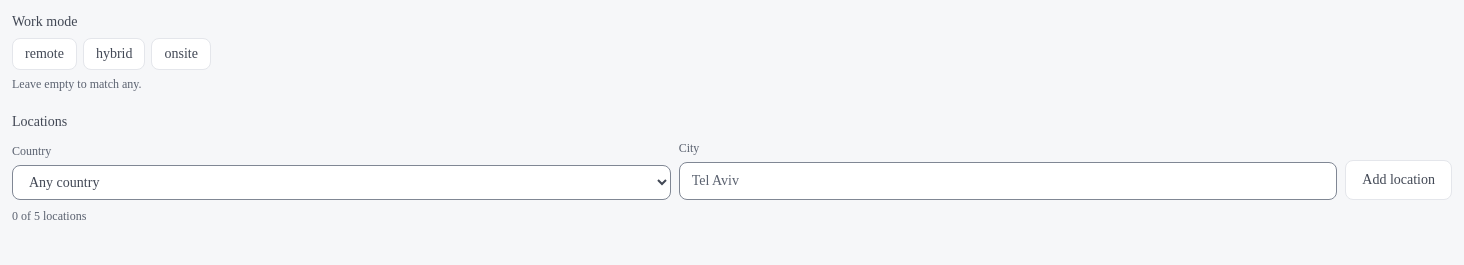
StepWhere › asks for something to add when both fields are empty
Click the button "Add location" at point(1399, 180), box [1345,160,1452,200]
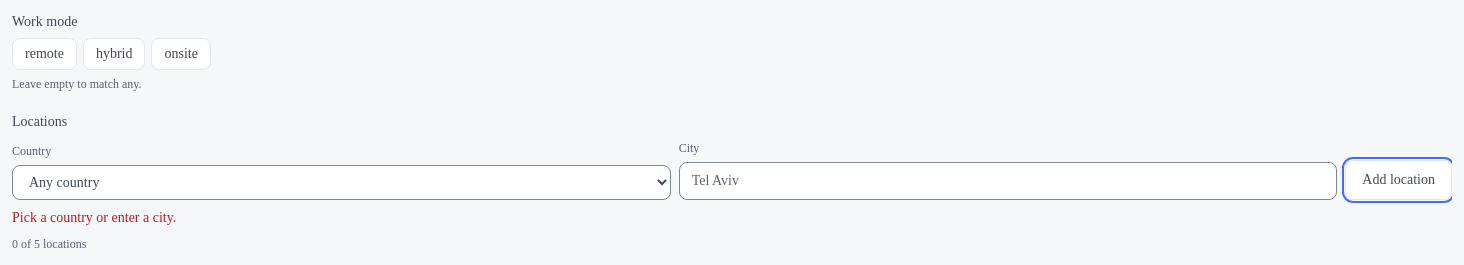
Expected: the message reads "Pick a country or enter a city.", [12,210,176,225]
